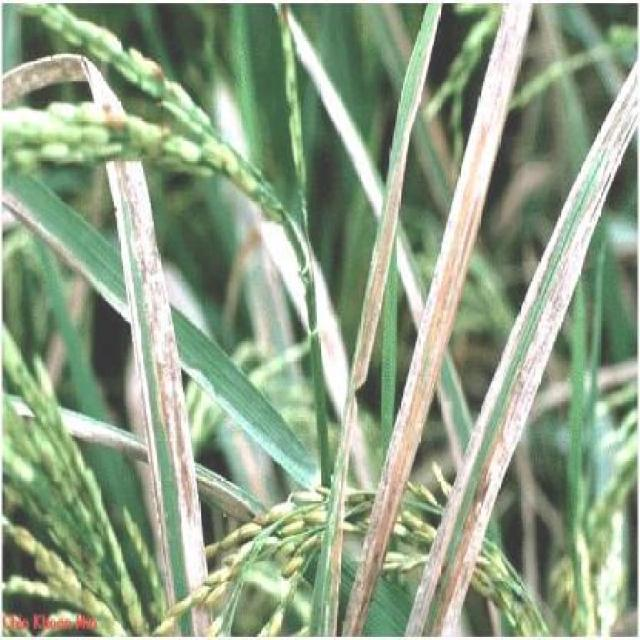Brown_Spot: (344, 60, 590, 565), (76, 63, 213, 603), (0, 64, 52, 604), (592, 56, 639, 533)
